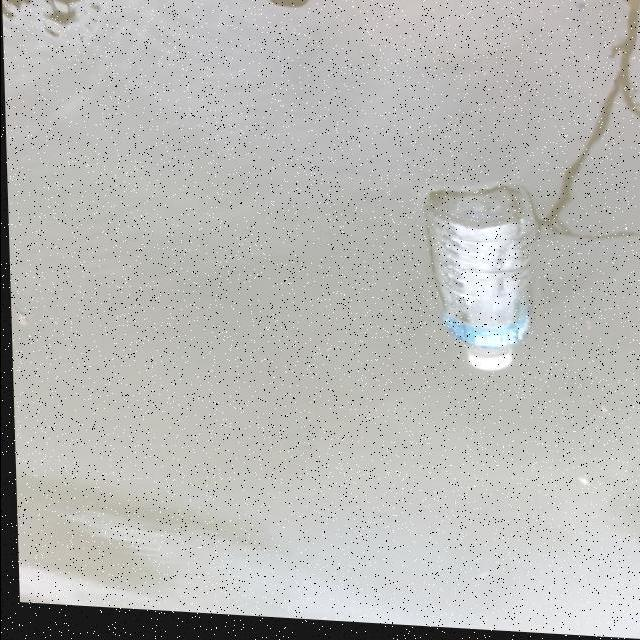Bottle: (428, 200, 526, 370)
